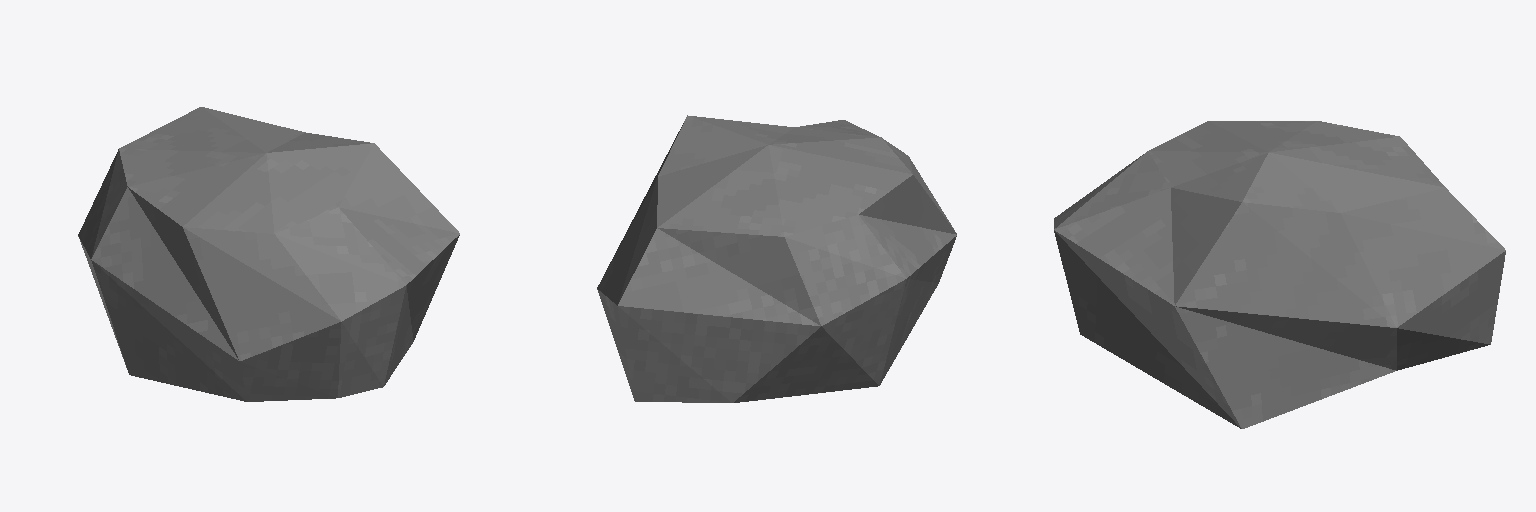
3 views of the same model, side by side, from view 1: azimuth 30°, elevation 25°; view 2: azimuth 150°, elevation 25°; view 3: azimuth 270°, elevation 25° (orthographic).
Parts seen in each view (by area): view 1: stone; view 2: stone; view 3: stone.
Part boxes in pixels (x1,y1,x2,y2): stone: (78,107,459,401); stone: (597,115,956,402); stone: (1054,121,1505,428).
Size of the model in its own units: 1.94 by 1.29 by 2.5.
1 materials, 1 textured.